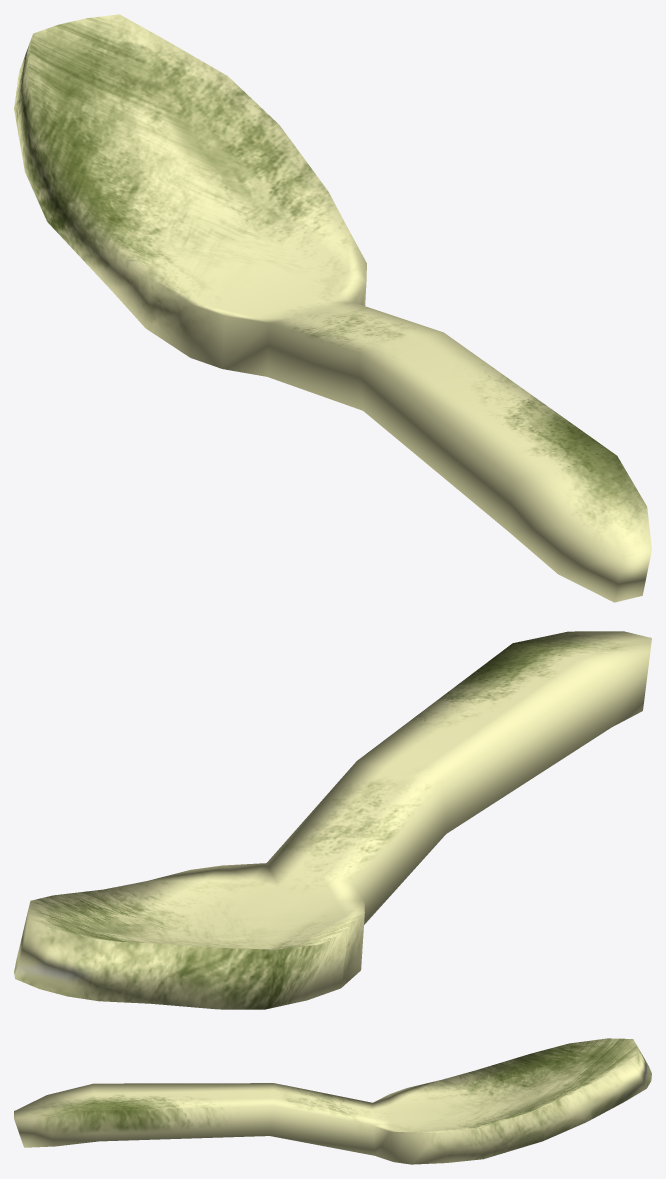
File: plastic spoon.obj
3 renders of one model, top to bottom at view 1: azimuth 30°, elevation 25°; view 2: azimuth 150°, elevation 25°; view 3: azimuth 270°, elevation 25°, orthographic. The views are drawn at different scales.
Visible parts, largest first — view 1: polySurface3; view 2: polySurface3; view 3: polySurface3.
Part boxes in pixels (bbox=[...]): polySurface3: bbox=[14, 14, 651, 602]; polySurface3: bbox=[14, 631, 651, 1009]; polySurface3: bbox=[14, 1038, 651, 1164].
Size of the model in its own units: 0.224 by 0.1656 by 1.02.
1 material, 1 textured.
